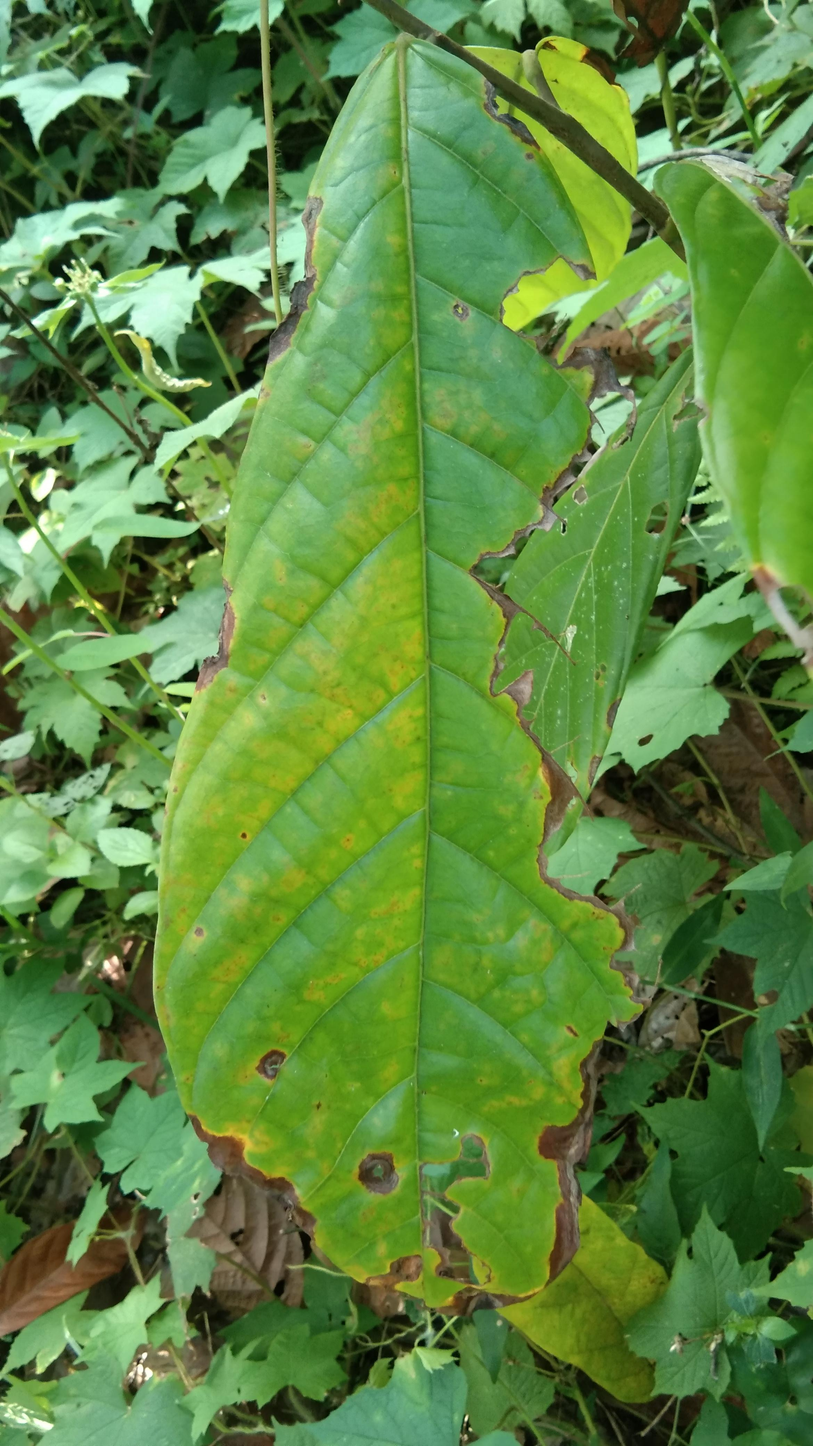deficiencia_potasio: (195, 49, 632, 1352)
